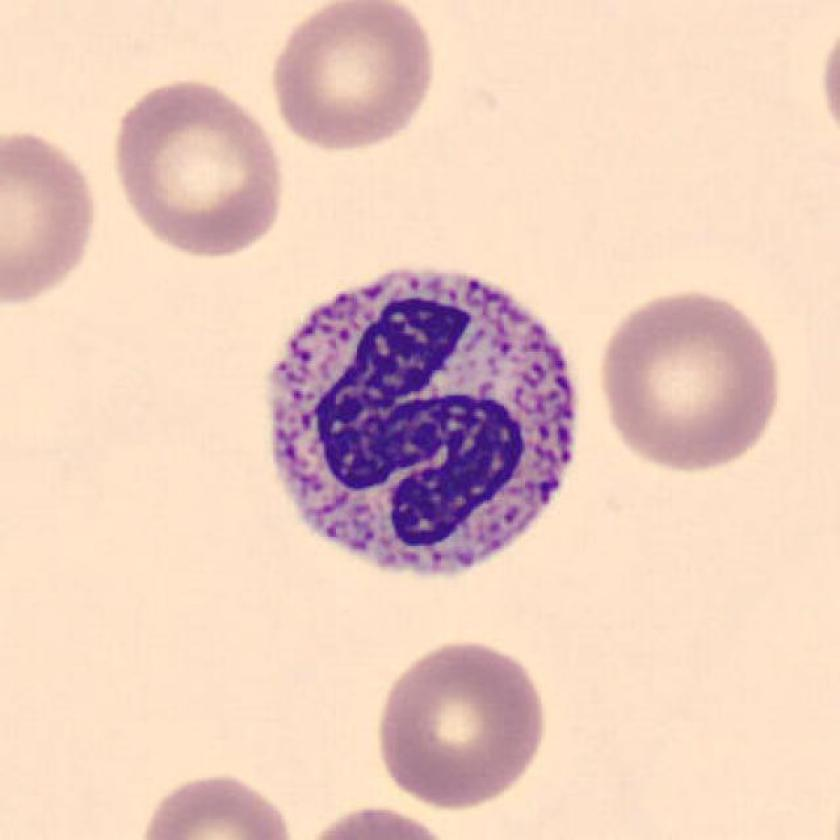neutrophil: (265, 271, 572, 572)
